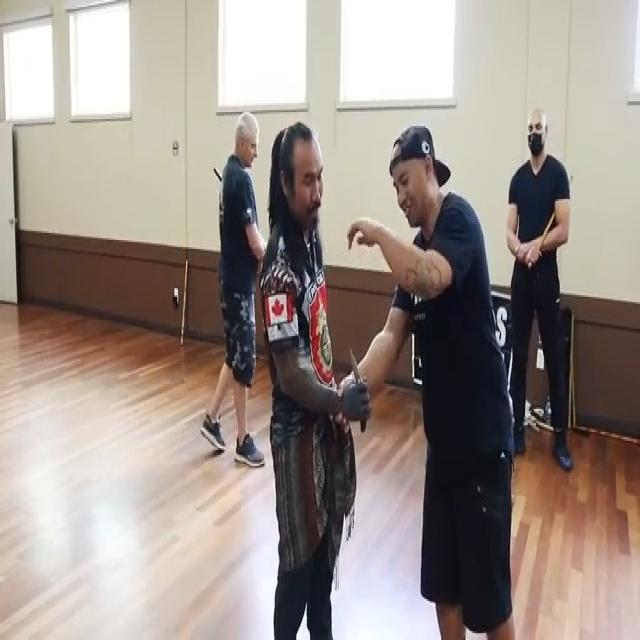Sharp-Object: (346, 344, 373, 434)
